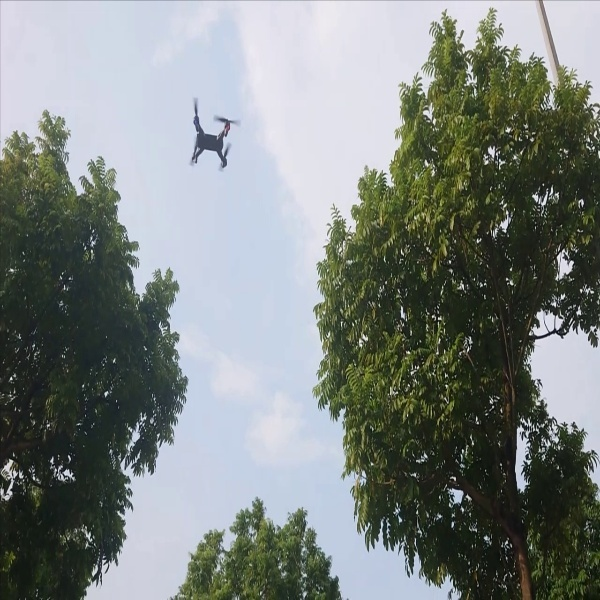drone: (176, 96, 244, 176)
